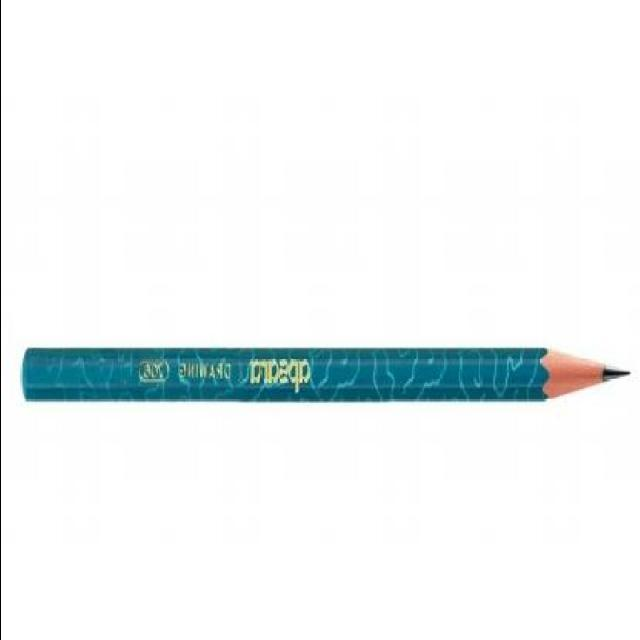pencil: (528, 325, 640, 425)
